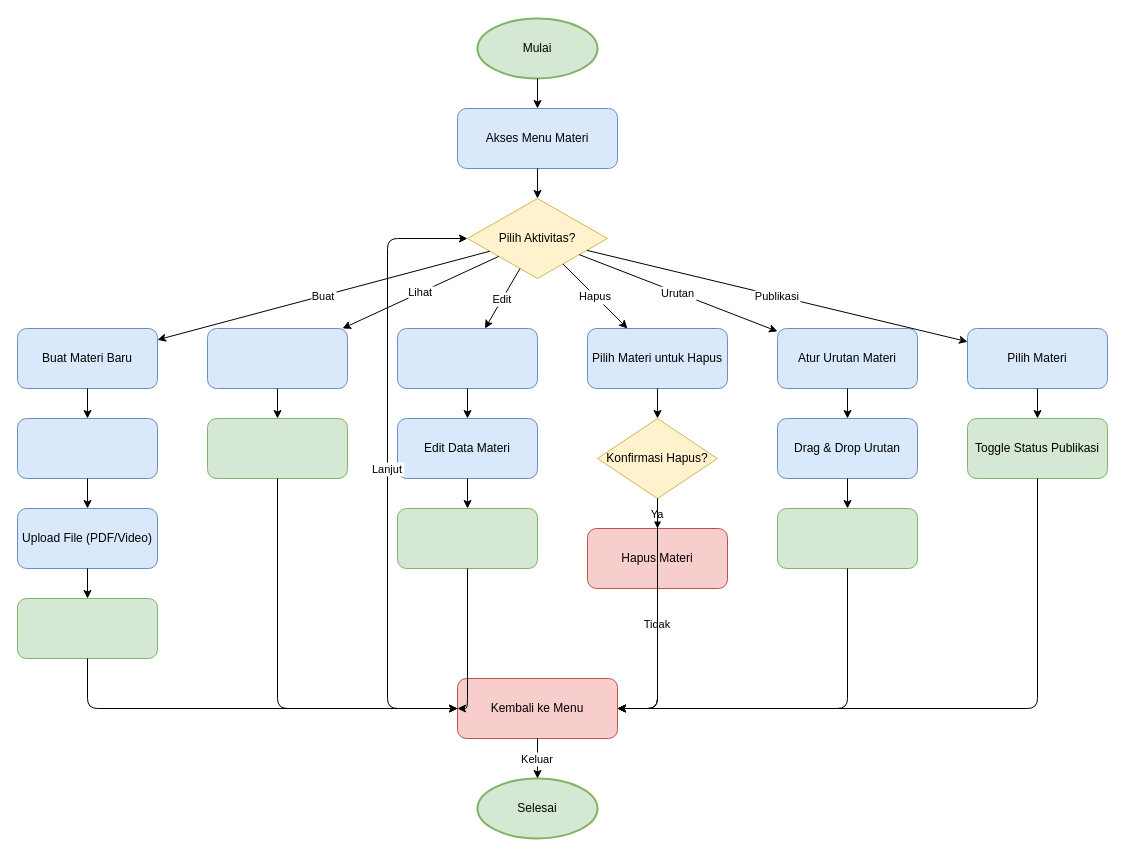
Some shapes in this 1125 by 856 pixel diagram are drawn without their labels. Here are the shapes that lost their labels. From the top down, the box of each, then its label:
(206, 328, 348, 388): Lihat Daftar Materi
(396, 328, 538, 388): Pilih Materi untuk Edit
(16, 418, 158, 478): Input Data Materi
(206, 418, 348, 478): Tampilkan List Materi
(396, 508, 538, 568): Update Materi
(776, 508, 918, 568): Simpan Urutan
(16, 598, 158, 658): Simpan Materi
